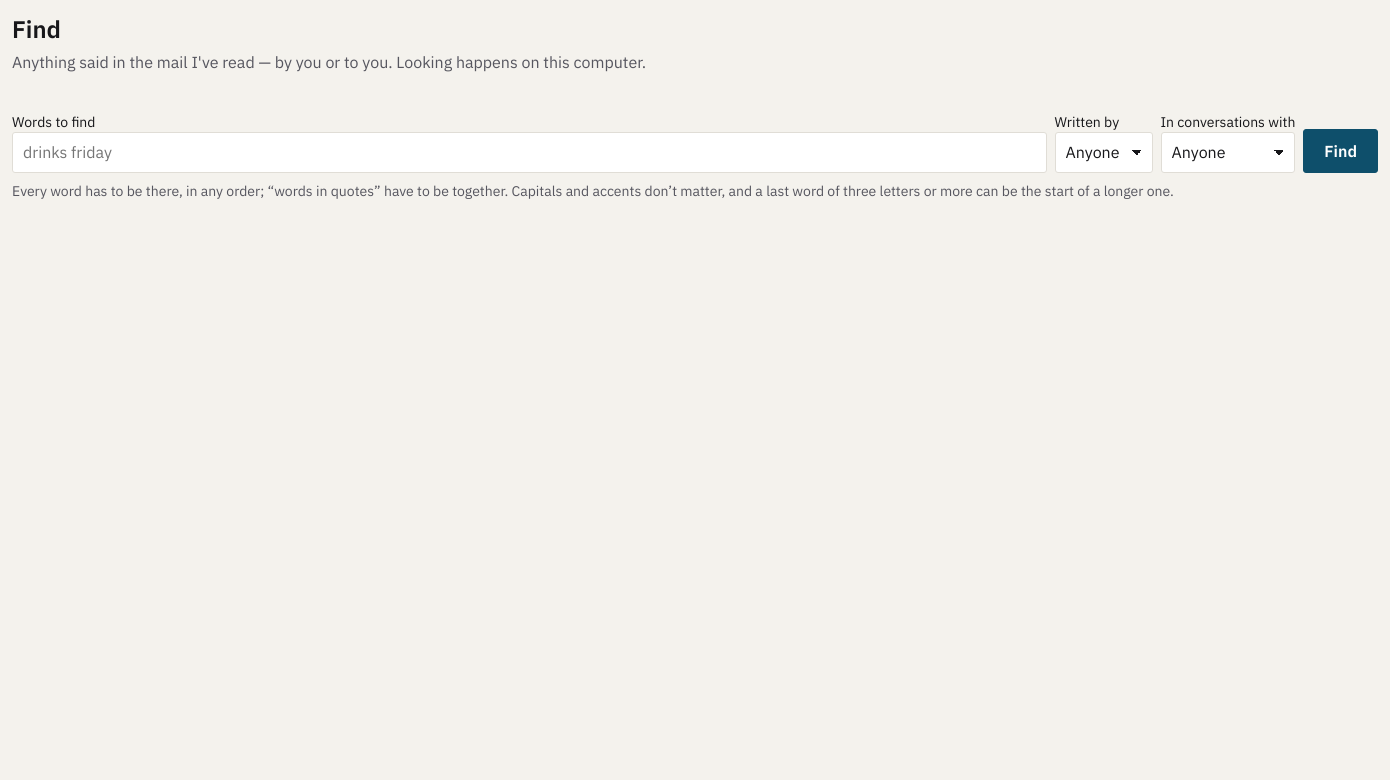
Scenario: finding what was said › shows a message found in its conversation, reading the rest only when asked
This screenshot has width=1390, height=780.
In the search field labelled "Words to find": (529, 153) [12,132,1046,174], type "friday"
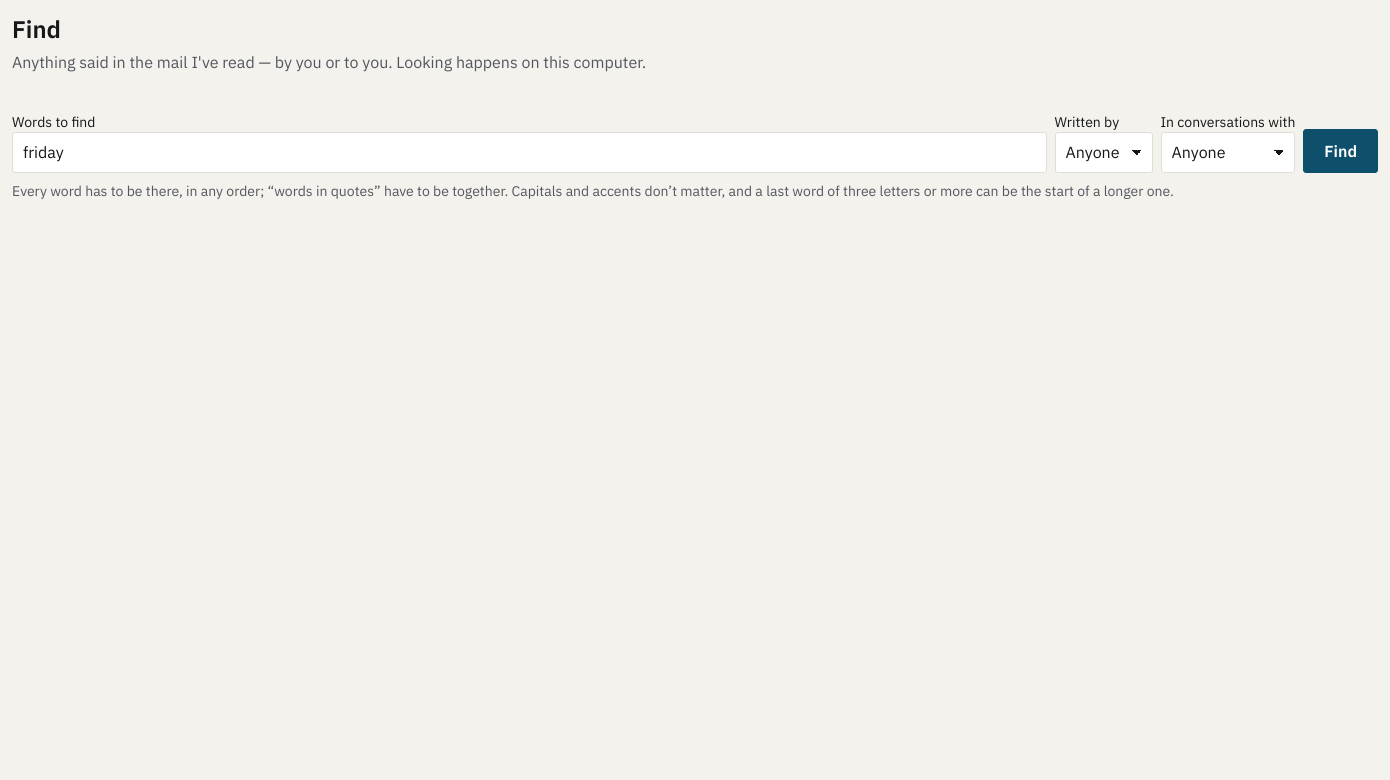
Click the button "Find": (1341, 152) [1303,130,1378,174]
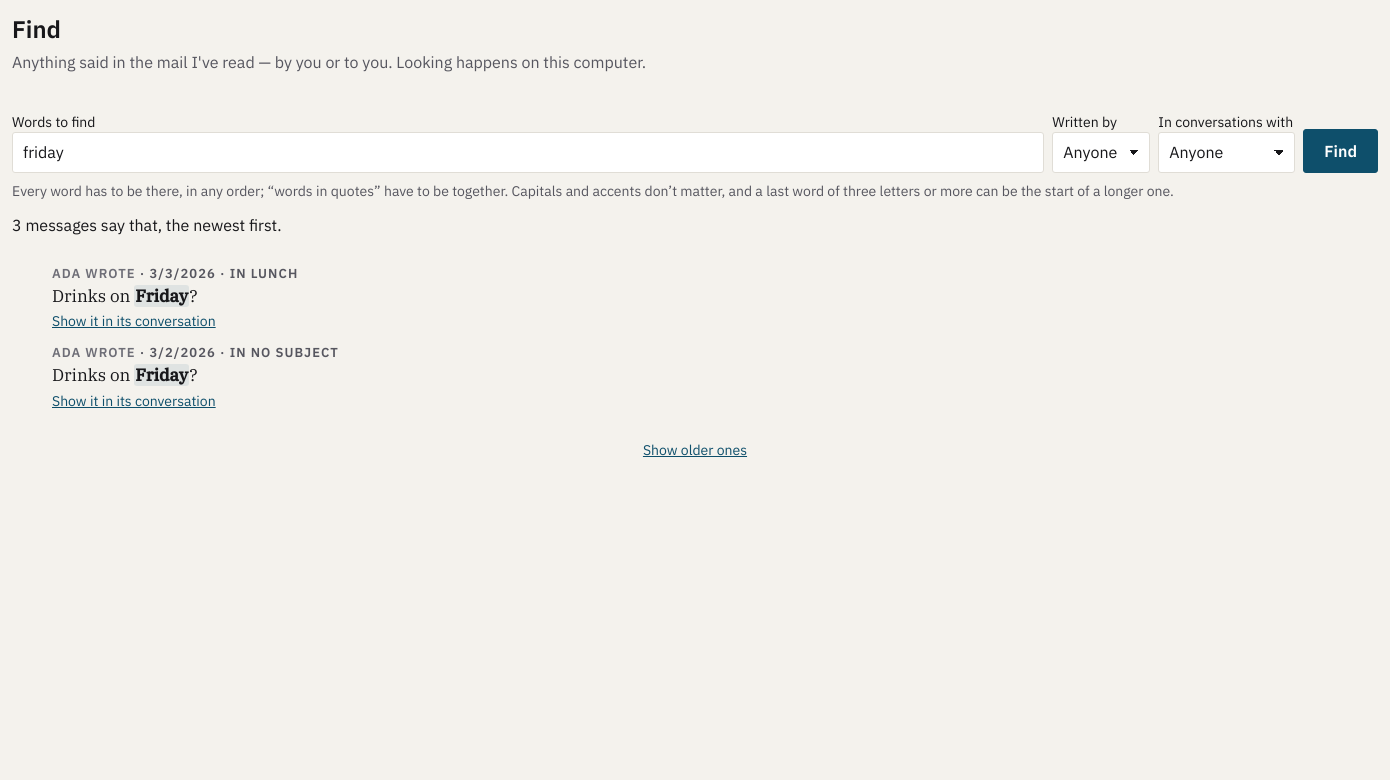
Click the button "Show it in its conversation" below "3/3/2026 · in Lunch": (134, 321) [52,311,216,332]
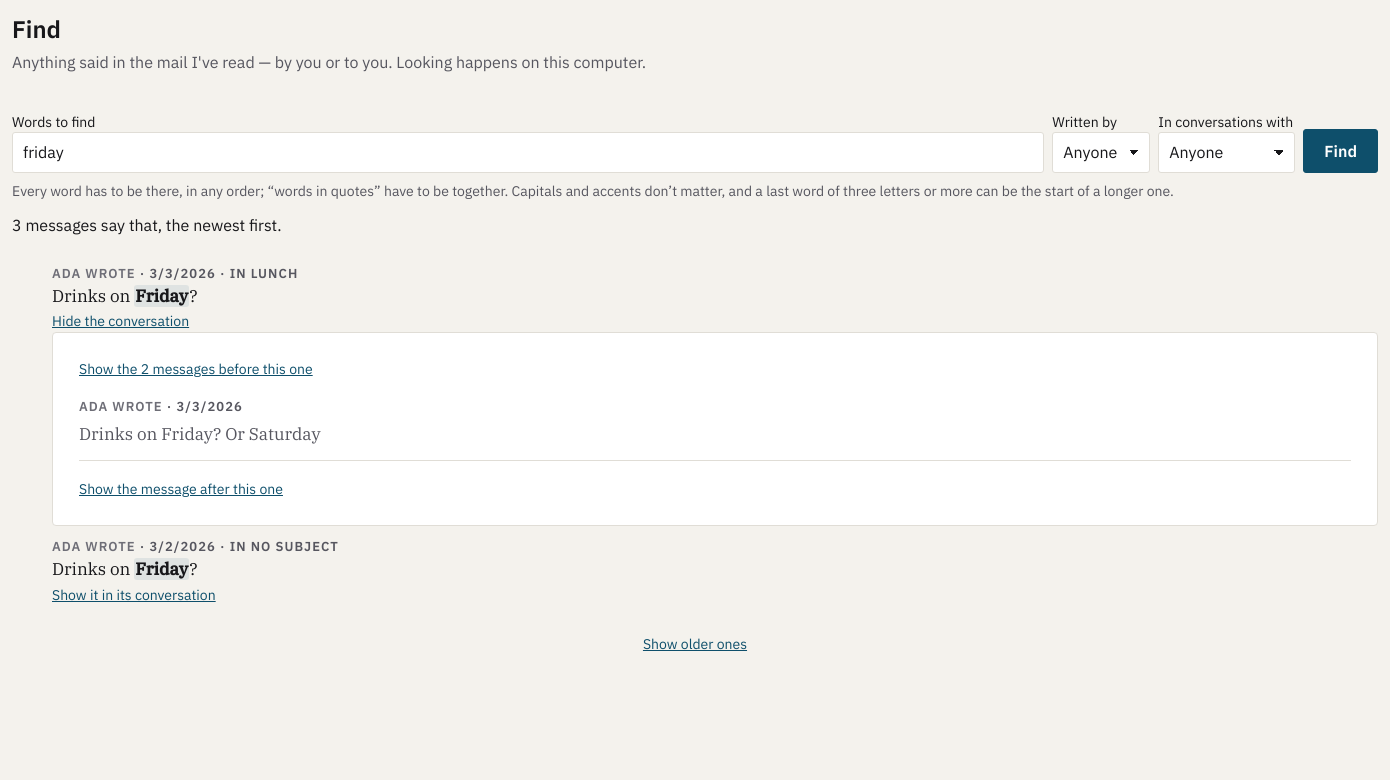
Check: the text "Drinks on Friday? Or Saturday" is shown, box [79,423,320,445]
Check: the button "Show the 2 messages before this one" is shown, box [79,360,313,380]
Check: the button "Show the message after this one" is shown, box [79,479,283,500]
Click the button "Hide the conversation": (121, 321) [52,311,189,332]
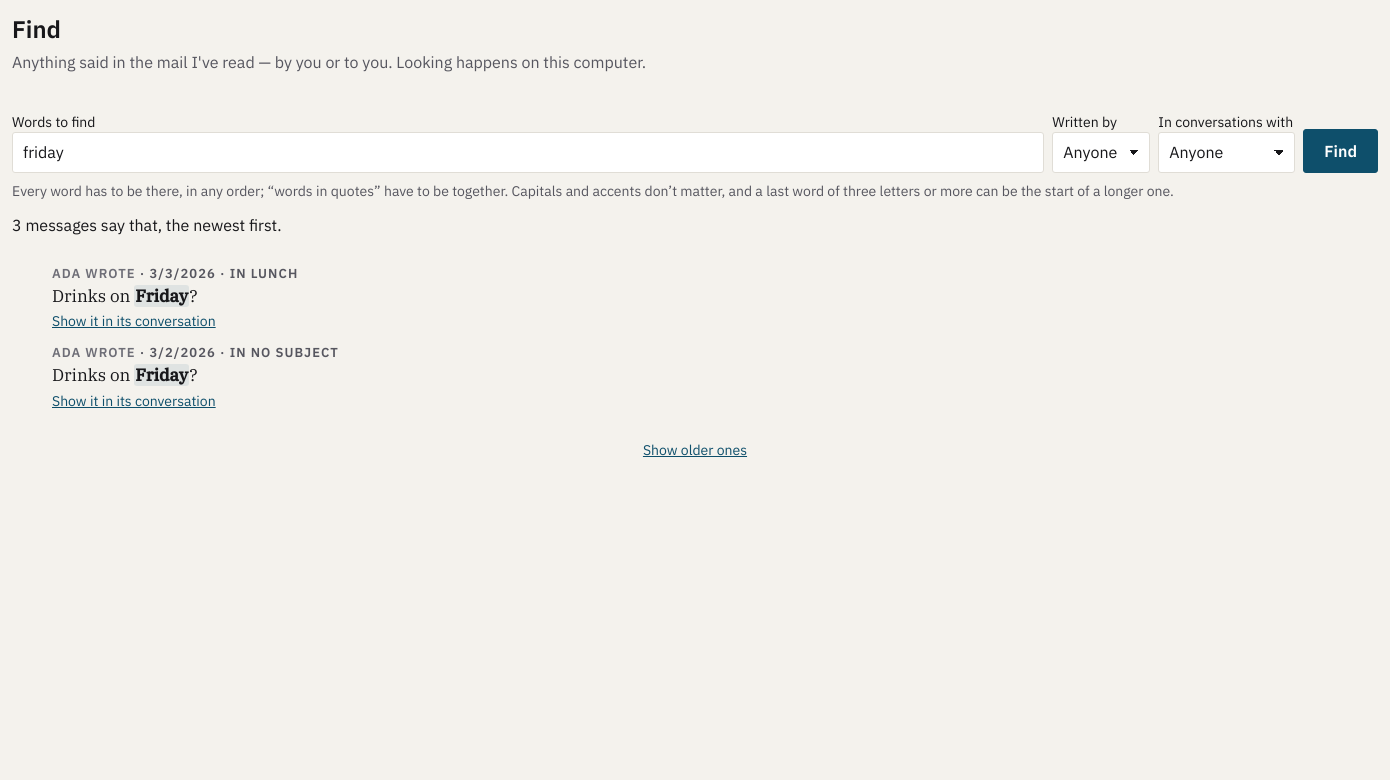
Check: the text "Drinks on Friday? Or Saturday" is gone
